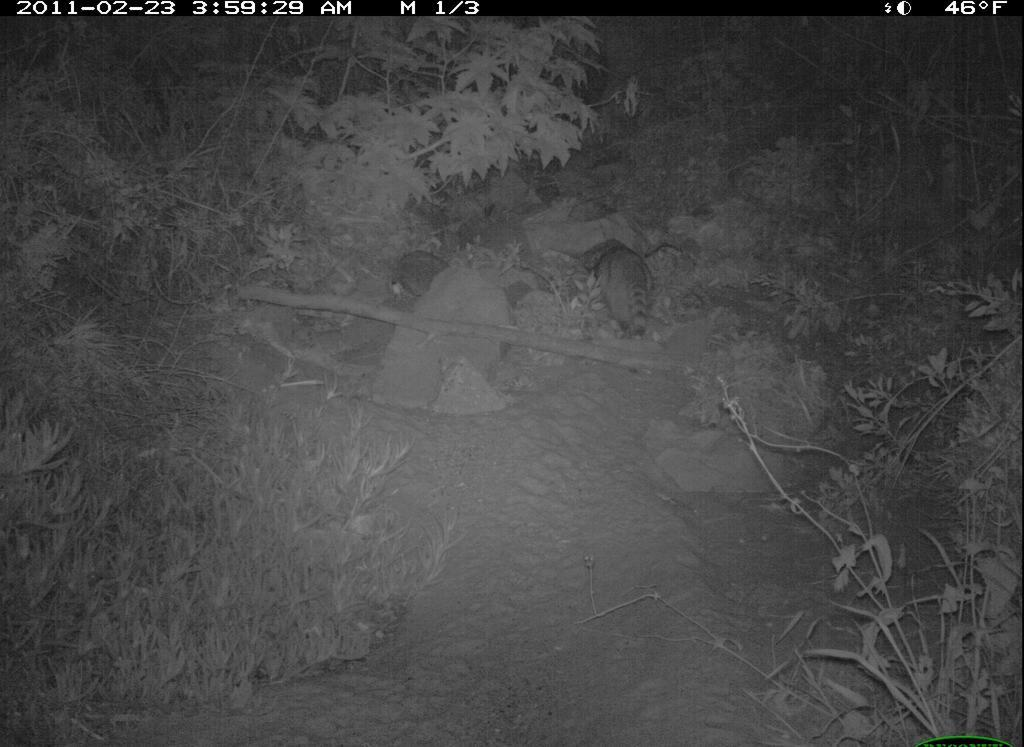raccoon: (579, 236, 666, 342)
